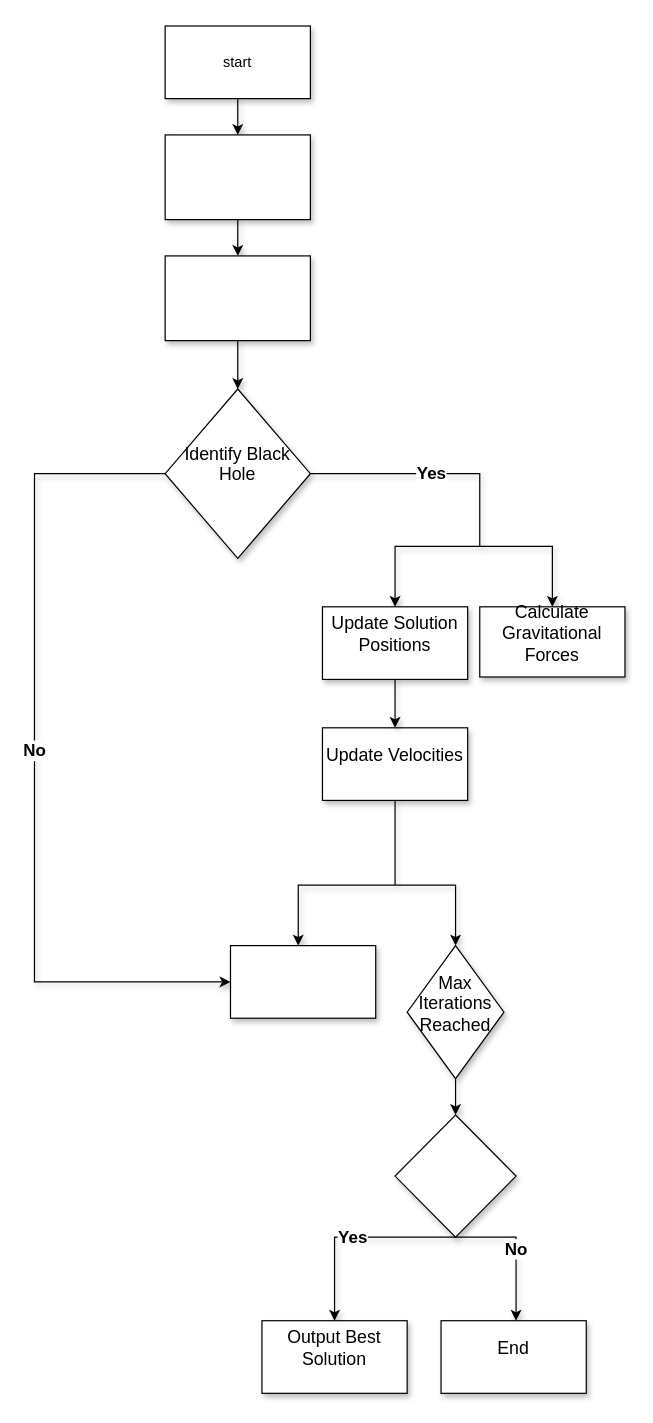
Image size: 653x1423. Some labels were removed from this diagram. The shapes that lost their labels are listed below. From the top down, each one's centre as x and y in pixels, then its label:
At pixel 238 178: "Initialize Population and Parameters".
At pixel 238 299: "Evaluate Objective Function".
At pixel 303 983: "Update Global Best Solution".
At pixel 456 1177: "Converged".
